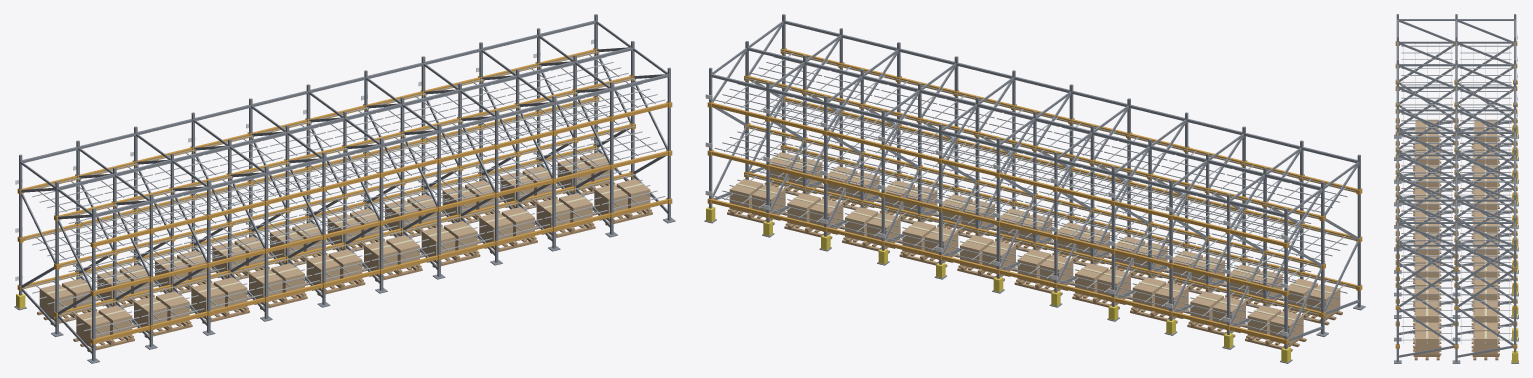
Rendered from warehouse-rack-v4.glb.
3 views of the same model, side by side, from view 1: azimuth 30°, elevation 25°; view 2: azimuth 150°, elevation 25°; view 3: azimuth 270°, elevation 25° (orthographic). The views are drawn at different scales.
Parts seen in each view (by area): view 1: GEO-rack_steel, GEO-rack_deck, GEO-rack_carton, GEO-rack_beam, GEO-rack_wood, GEO-rack_tape; view 2: GEO-rack_steel, GEO-rack_deck, GEO-rack_beam, GEO-rack_carton, GEO-rack_wood, GEO-rack_tape, GEO-rack_guard, GEO-rack_label; view 3: GEO-rack_steel, GEO-rack_deck, GEO-rack_carton, GEO-rack_wood, GEO-rack_beam, GEO-rack_tape, GEO-rack_guard, GEO-rack_label.
Part boxes in pixels (x1,y1,x2,y2): GEO-rack_steel: (14, 14, 675, 363); GEO-rack_deck: (24, 51, 665, 336); GEO-rack_carton: (39, 152, 650, 344); GEO-rack_beam: (17, 48, 672, 344); GEO-rack_wood: (37, 182, 652, 351); GEO-rack_tape: (46, 156, 643, 320); GEO-rack_steel: (704, 14, 1365, 363); GEO-rack_deck: (714, 51, 1355, 334); GEO-rack_beam: (707, 48, 1362, 344); GEO-rack_carton: (729, 152, 1340, 344); GEO-rack_wood: (727, 182, 1342, 351); GEO-rack_tape: (736, 156, 1331, 320); GEO-rack_guard: (706, 206, 1290, 362); GEO-rack_label: (705, 94, 1287, 336); GEO-rack_steel: (1394, 14, 1518, 363); GEO-rack_deck: (1401, 44, 1511, 343); GEO-rack_carton: (1415, 119, 1497, 354); GEO-rack_wood: (1413, 135, 1499, 360); GEO-rack_beam: (1395, 41, 1517, 348); GEO-rack_tape: (1426, 119, 1486, 338); GEO-rack_guard: (1512, 125, 1518, 362); GEO-rack_label: (1517, 33, 1517, 342).
Bounding box in the file's own units: 30.42 × 7.6 × 7.02.
